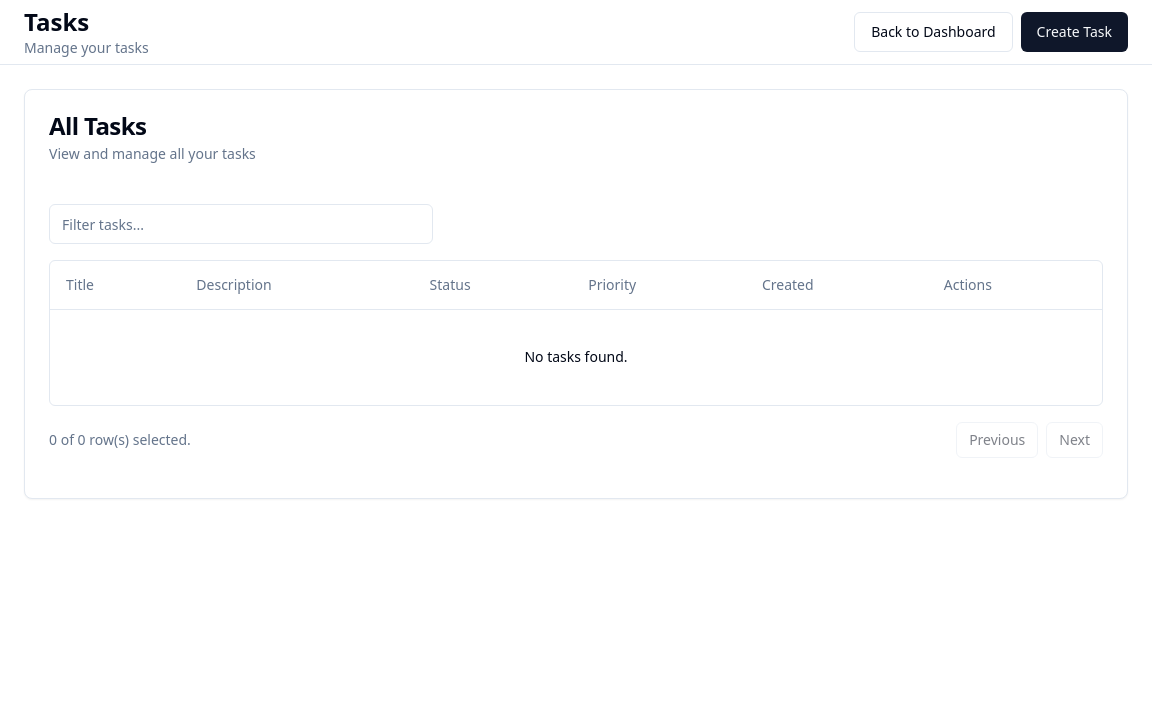
Test: Task Creation and Dashboard Integration › should handle the case when task creation fails
Expected: the heading "Tasks" is shown, [24, 5, 89, 38]
// Try to create a task
Click the button "Create Task" at [1074, 32], box [1021, 12, 1128, 52]
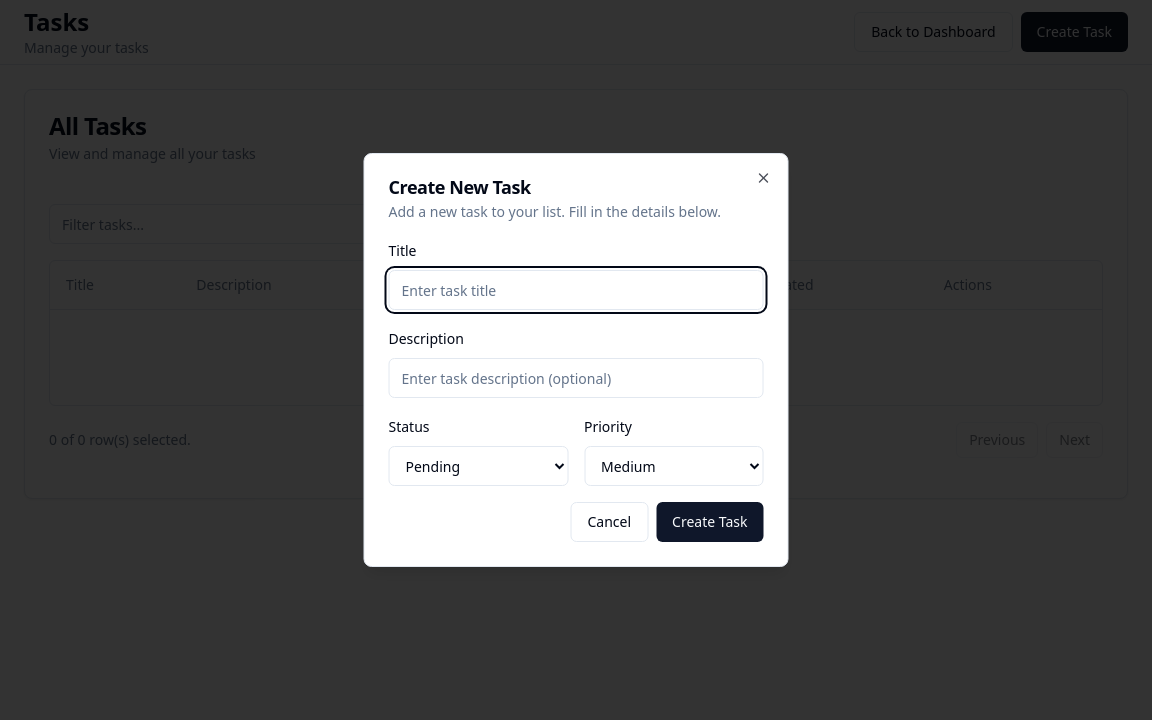
Expected: the heading "Create New Task" is shown, [388, 175, 531, 199]
// Fill in task details
Type "Failing Task" into the field labelled "Title" at [576, 290], box [388, 270, 764, 310]
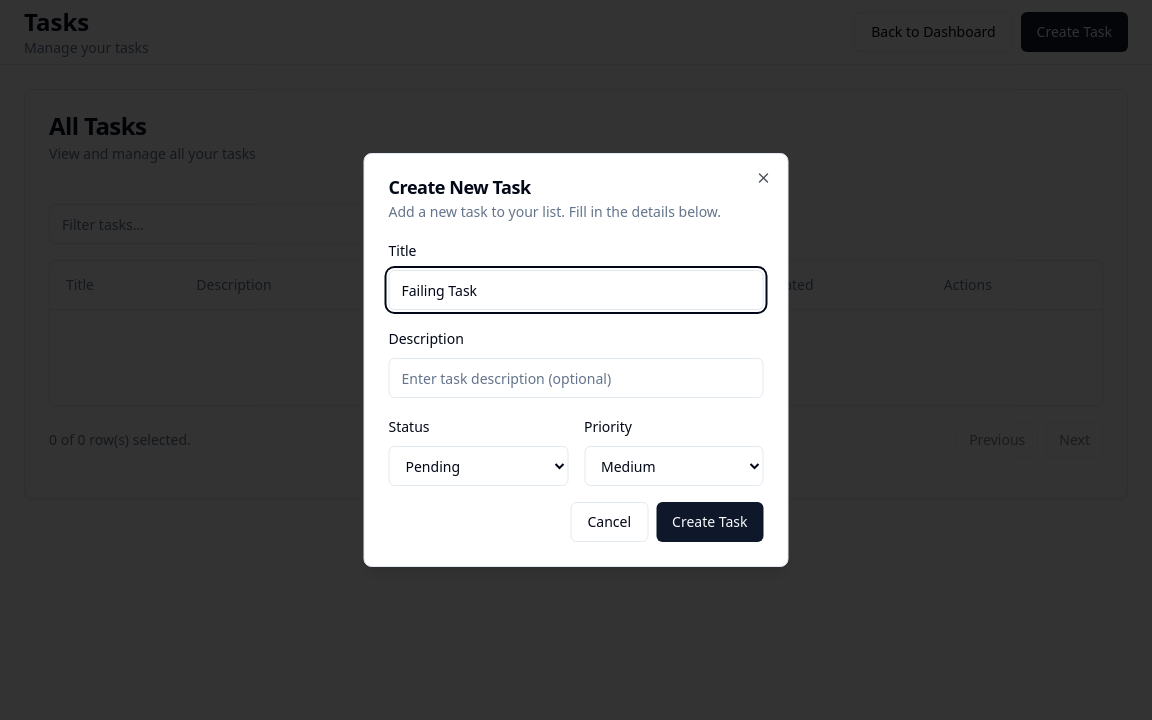
// Submit the form
Click the button "Create Task" at [710, 522], box [656, 502, 764, 542]
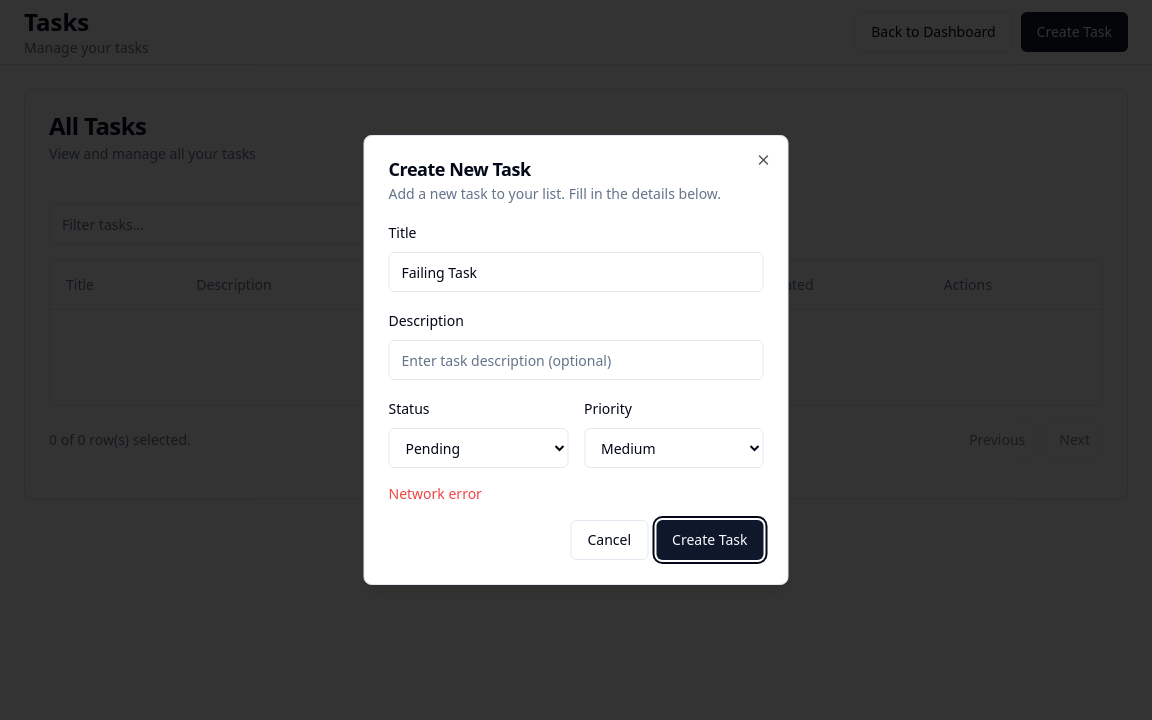
Expected: the heading "Create New Task" is shown, [388, 157, 531, 181]
Expected: the text "Network error" is shown, [388, 484, 482, 503]
